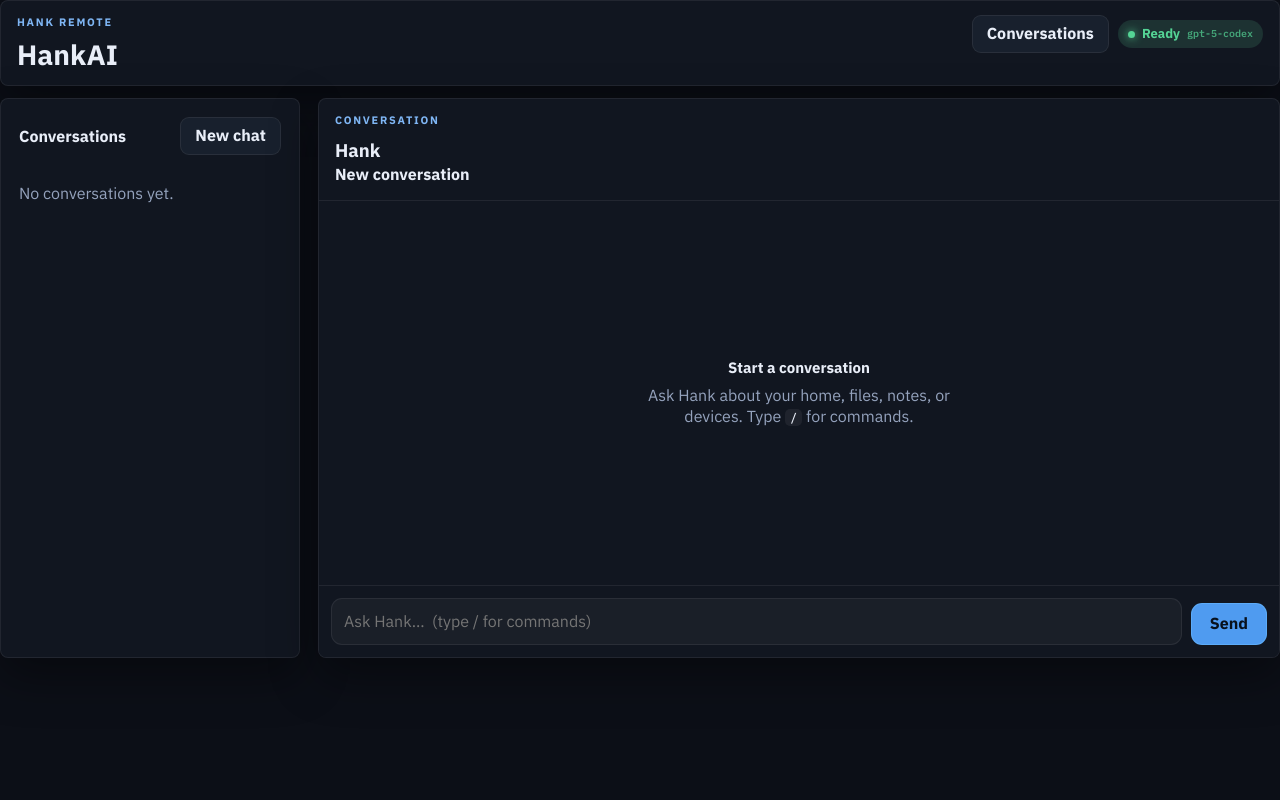
HankAIPage › keeps built-in commands when installed app discovery fails
The width and height of the screenshot is (1280, 800).
Type "/fi" into the text box named "Message" at {"x": 756, "y": 622}, box top-left (331, 598), bottom-right (1182, 645)
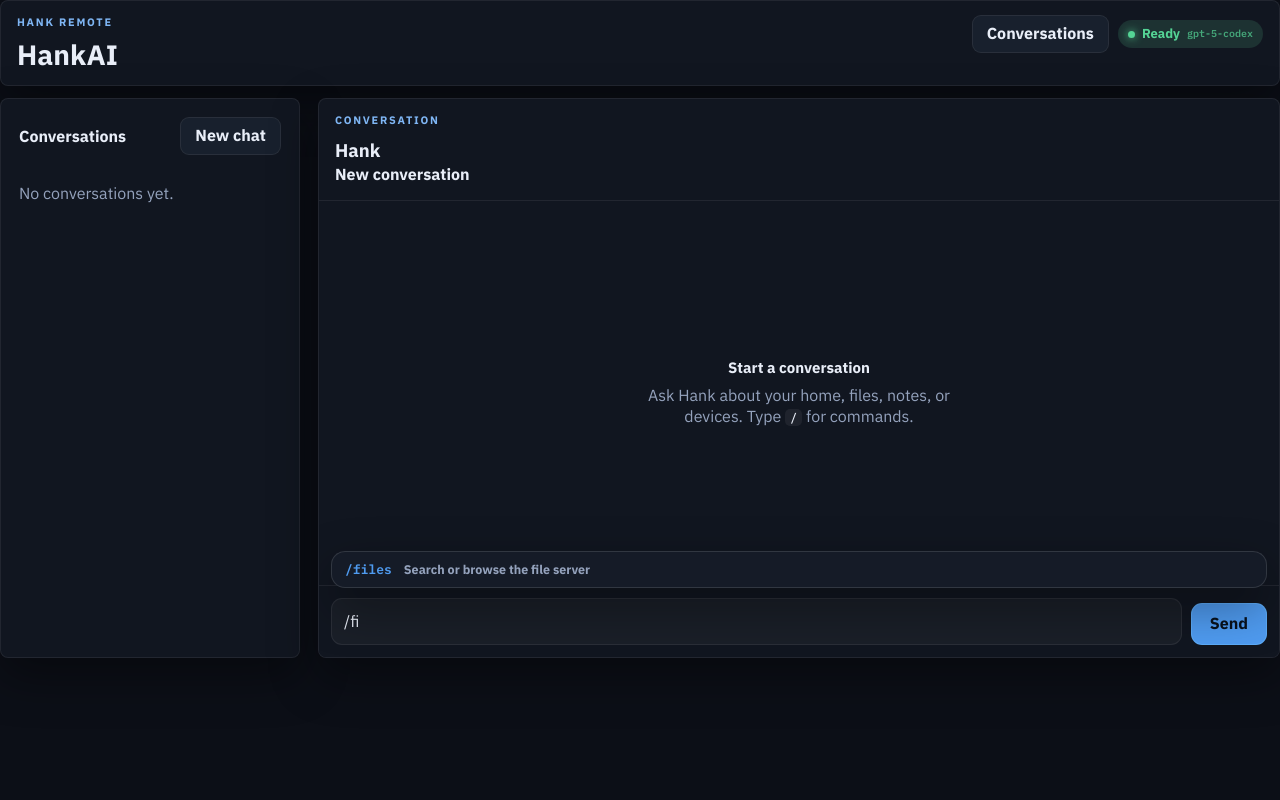
Now the option "/files Search or browse the file server" is shown, box top-left (332, 552), bottom-right (1266, 587)
